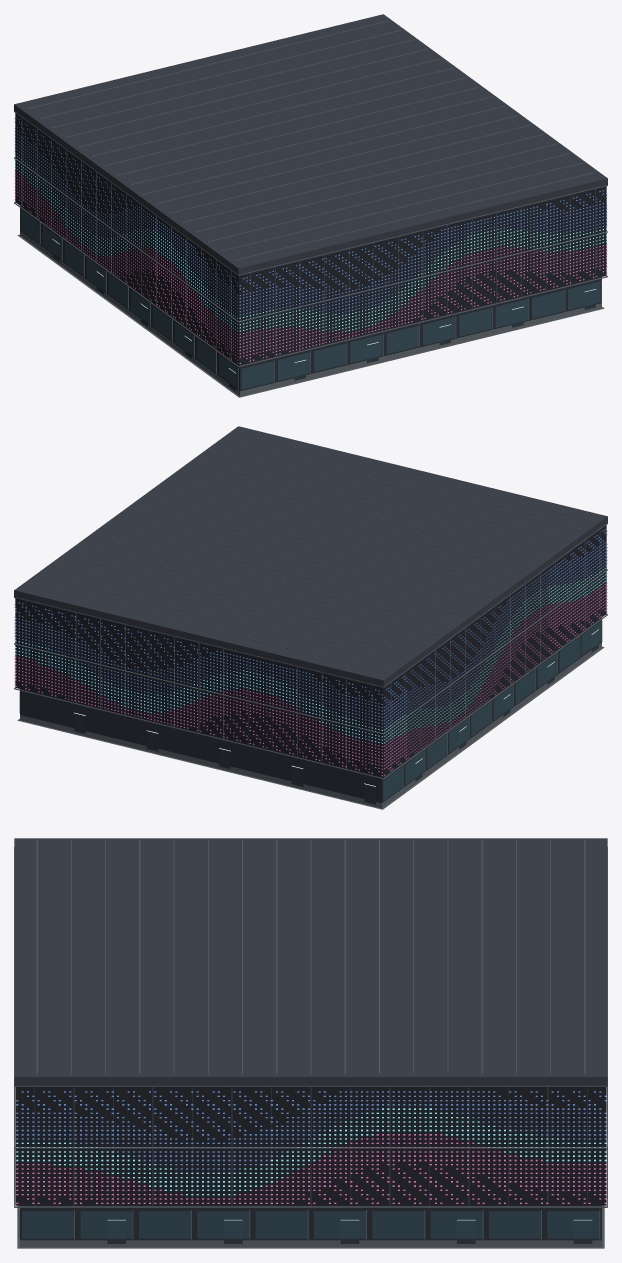
The model's file is shell.glb.
The picture shows the model from 3 angles, top to bottom: view 1: azimuth 30°, elevation 25°; view 2: azimuth 150°, elevation 25°; view 3: azimuth 270°, elevation 25°; orthographic projection. The views are drawn at different scales.
Visible parts, largest first — view 1: shell_roof_canopy_plate, shell_bowl_mass_light_facade_backing, shell_bowl_mass_cladding, shell_bowl_mass_suite_glass_lobby, shell_roof_canopy_seams, shell_bowl_mass_facade_panels, shell_ribbon_led_facade_indigo, shell_ribbon_led_facade_violet, shell_bowl_mass_plinth, shell_ribbon_led_facade_ice, shell_vomitories_exterior, shell_field_floor_perimeter; view 2: shell_roof_canopy_plate, shell_bowl_mass_light_facade_backing, shell_bowl_mass_cladding, shell_roof_canopy_seams, shell_bowl_mass_facade_panels, shell_ribbon_led_facade_indigo, shell_ribbon_led_facade_violet, shell_bowl_mass_suite_glass_lobby, shell_bowl_mass_plinth, shell_ribbon_led_facade_ice, shell_vomitories_exterior, shell_field_floor_perimeter; view 3: shell_roof_canopy_plate, shell_bowl_mass_light_facade_backing, shell_bowl_mass_cladding, shell_bowl_mass_suite_glass_lobby, shell_bowl_mass_facade_panels, shell_roof_canopy_seams, shell_ribbon_led_facade_indigo, shell_ribbon_led_facade_violet, shell_bowl_mass_plinth, shell_ribbon_led_facade_ice, shell_vomitories_exterior, shell_field_floor_perimeter.
Boxes of the visible parts, x1,y1,x2,y2 form: shell_roof_canopy_plate: [14, 14, 607, 275]; shell_bowl_mass_light_facade_backing: [15, 113, 606, 365]; shell_bowl_mass_cladding: [20, 206, 601, 391]; shell_bowl_mass_suite_glass_lobby: [20, 209, 600, 389]; shell_roof_canopy_seams: [26, 20, 595, 260]; shell_bowl_mass_facade_panels: [14, 111, 607, 389]; shell_ribbon_led_facade_indigo: [14, 117, 607, 315]; shell_ribbon_led_facade_violet: [14, 170, 607, 363]; shell_bowl_mass_plinth: [20, 230, 601, 396]; shell_ribbon_led_facade_ice: [14, 154, 607, 331]; shell_vomitories_exterior: [52, 240, 595, 390]; shell_field_floor_perimeter: [17, 234, 604, 397]; shell_roof_canopy_plate: [14, 426, 607, 687]; shell_bowl_mass_light_facade_backing: [15, 525, 606, 777]; shell_bowl_mass_cladding: [20, 618, 601, 803]; shell_roof_canopy_seams: [26, 432, 595, 672]; shell_bowl_mass_facade_panels: [14, 523, 607, 787]; shell_ribbon_led_facade_indigo: [14, 529, 607, 727]; shell_ribbon_led_facade_violet: [14, 582, 607, 776]; shell_bowl_mass_suite_glass_lobby: [383, 621, 601, 800]; shell_bowl_mass_plinth: [20, 642, 601, 808]; shell_ribbon_led_facade_ice: [14, 566, 607, 743]; shell_vomitories_exterior: [74, 630, 598, 804]; shell_field_floor_perimeter: [17, 646, 604, 809]; shell_roof_canopy_plate: [14, 838, 607, 1086]; shell_bowl_mass_light_facade_backing: [15, 1087, 606, 1205]; shell_bowl_mass_cladding: [20, 1205, 601, 1240]; shell_bowl_mass_suite_glass_lobby: [22, 1211, 599, 1238]; shell_bowl_mass_facade_panels: [14, 847, 607, 1239]; shell_roof_canopy_seams: [36, 840, 585, 1074]; shell_ribbon_led_facade_indigo: [16, 1091, 606, 1169]; shell_ribbon_led_facade_violet: [16, 1134, 606, 1203]; shell_bowl_mass_plinth: [20, 1240, 601, 1247]; shell_ribbon_led_facade_ice: [16, 1108, 606, 1195]; shell_vomitories_exterior: [107, 1220, 592, 1243]; shell_field_floor_perimeter: [17, 1205, 604, 1248].
Size of the model in its own units: 93.39 by 31.7 by 98.19.
